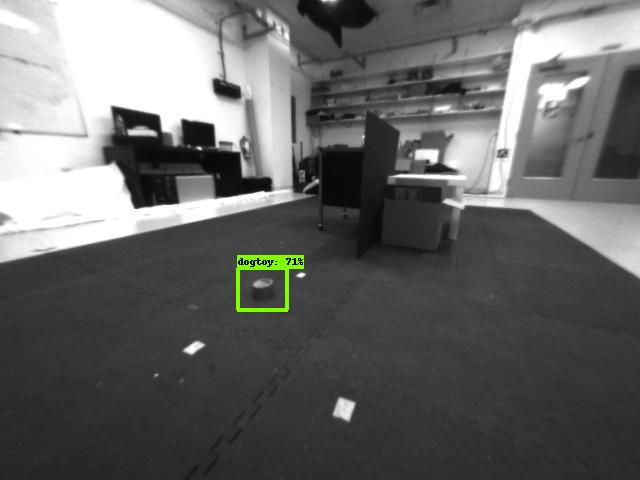dogtoy: (229, 269, 285, 311)
